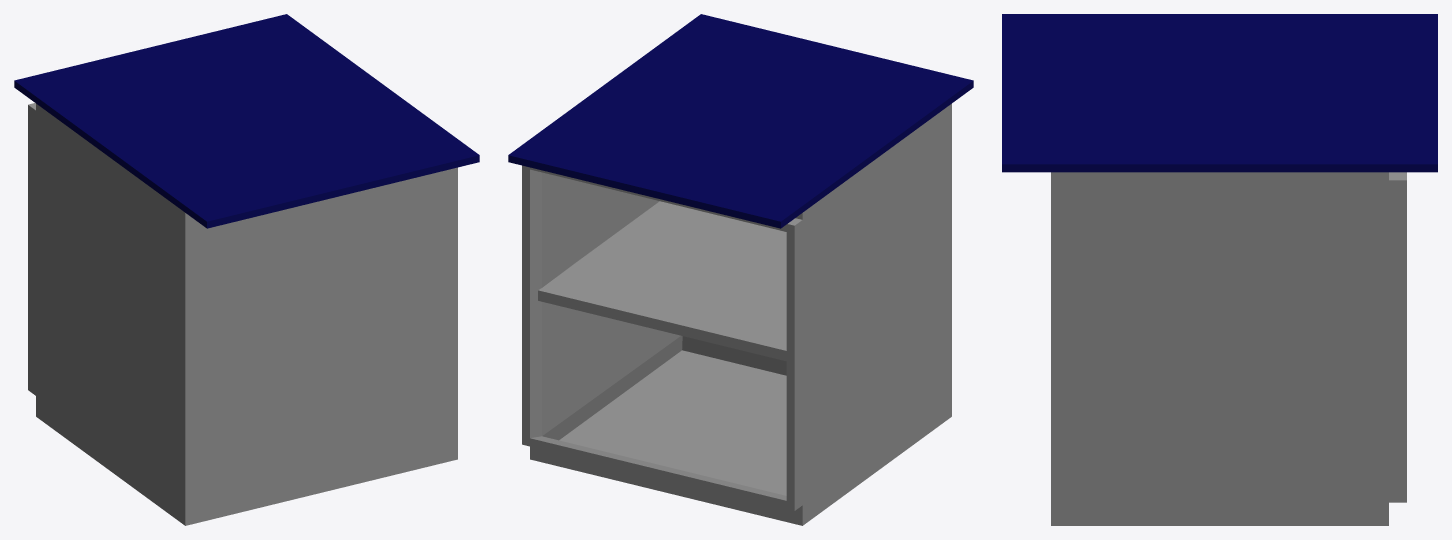
The model's file is counter_counter_2_shelves 1.fbx.
3 views of the same model, side by side, from view 1: azimuth 30°, elevation 25°; view 2: azimuth 150°, elevation 25°; view 3: azimuth 270°, elevation 25° (orthographic). The views are drawn at different scales.
Visible parts, largest first — view 1: counter_counter; view 2: counter_counter; view 3: counter_counter.
Part boxes in pixels (<box>): counter_counter: <box>14,14,479,525</box>; counter_counter: <box>508,14,973,525</box>; counter_counter: <box>1002,14,1437,525</box>.
Size of the model in its own units: 6202 by 6957 by 7599.
